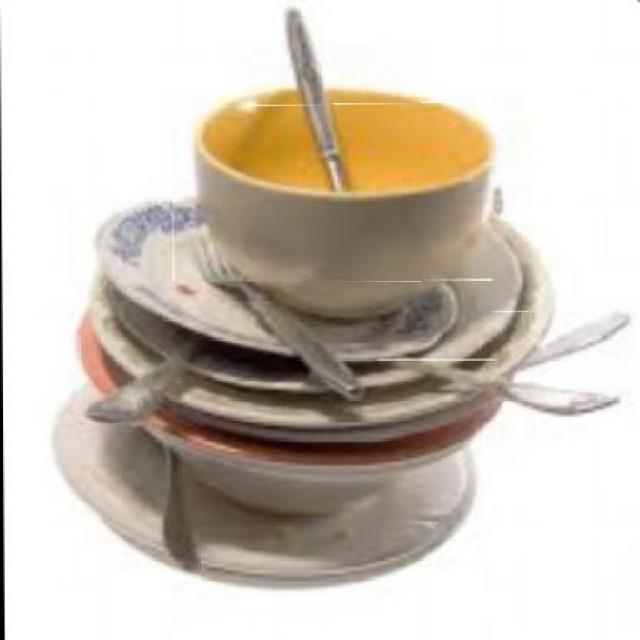Bowl: (171, 103, 494, 282)
Plate: (46, 394, 477, 585), (91, 210, 452, 358)
